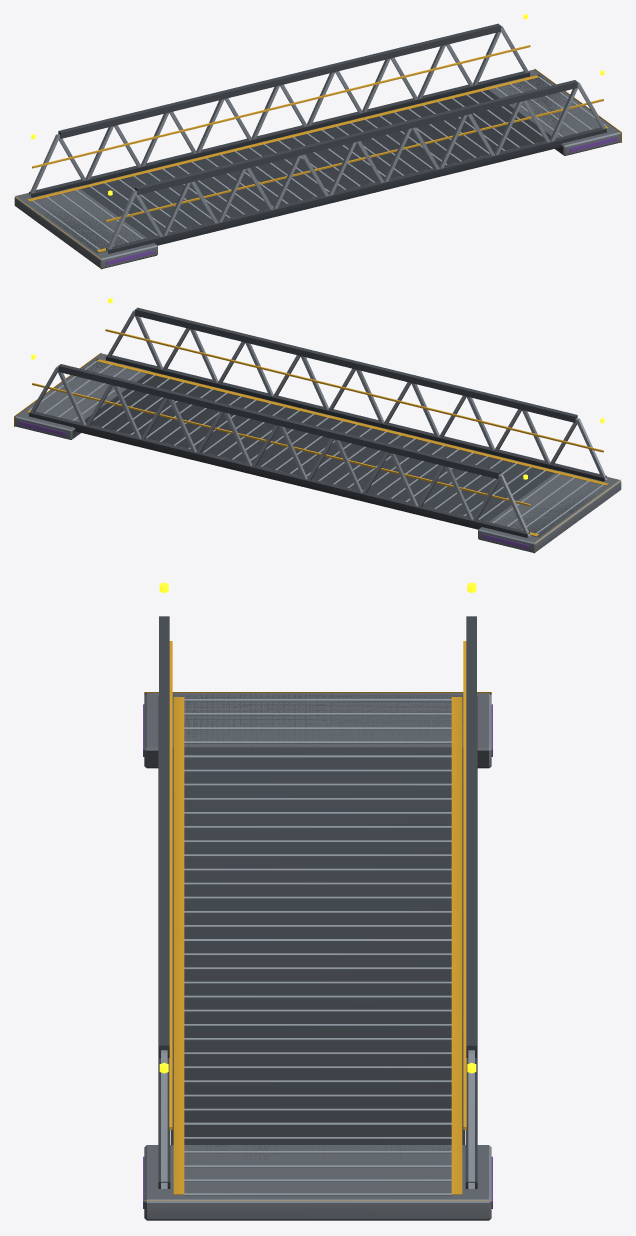
The model's file is crevice_bridge_l.glb.
The picture shows the model from 3 angles, top to bottom: view 1: azimuth 30°, elevation 25°; view 2: azimuth 150°, elevation 25°; view 3: azimuth 270°, elevation 25°; orthographic projection. The views are drawn at different scales.
Visible parts, largest first — view 1: Base; view 2: Base; view 3: Base.
Part boxes in pixels (x1,y1,x2,y2): Base: (14, 23, 621, 269); Base: (14, 307, 621, 553); Base: (143, 616, 492, 1220).
Bounding box in the file's own units: 18 × 2.39 × 5.24.
